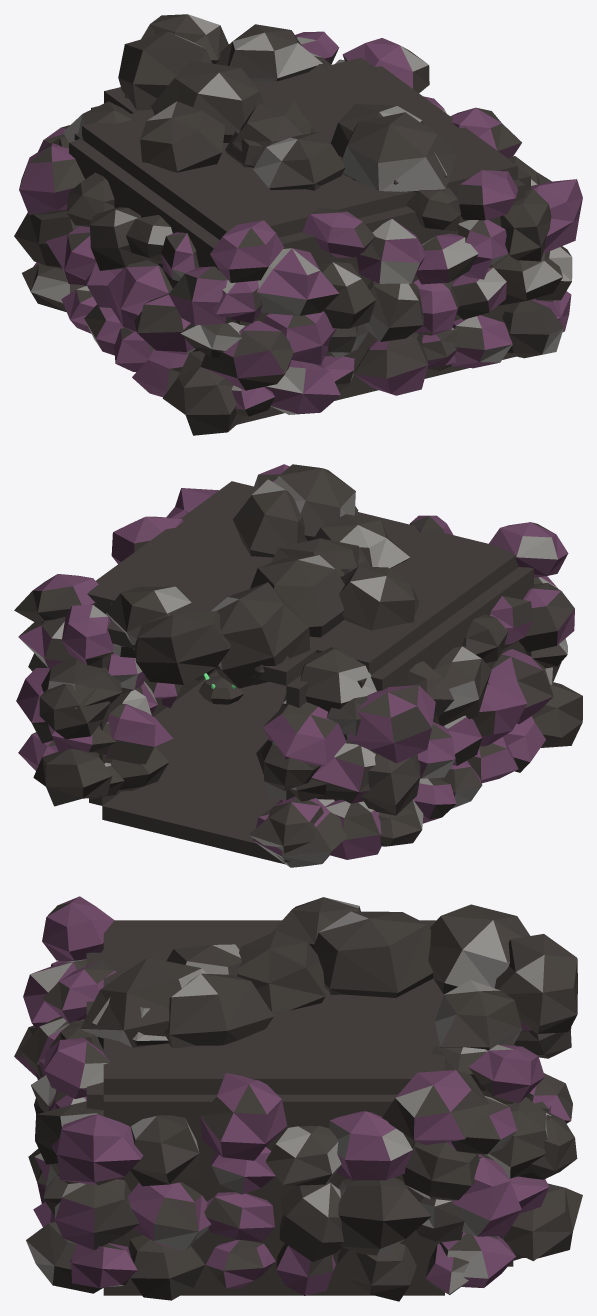
File: Cave_Crystal_Pocket.fbx
3 renders of one model, top to bottom at view 1: azimuth 30°, elevation 25°; view 2: azimuth 150°, elevation 25°; view 3: azimuth 270°, elevation 25°, orthographic. The views are drawn at different scales.
Parts seen in each view (by area): view 1: Decor, Ceiling2, Wall6, Wall3, Floor2; view 2: Decor, Ceiling2, Floor2, Floor1, Wall6, Ceiling1, Wall5, Wall7; view 3: Decor, Ceiling2, Wall4, Floor2, Wall3.
Part boxes in pixels (bbox=[...]): Decor: bbox=[14, 14, 582, 435]; Ceiling2: bbox=[82, 58, 517, 239]; Wall6: bbox=[69, 140, 219, 351]; Wall3: bbox=[235, 179, 525, 412]; Floor2: bbox=[237, 354, 515, 424]; Decor: bbox=[14, 464, 582, 867]; Ceiling2: bbox=[87, 481, 518, 674]; Floor2: bbox=[144, 671, 286, 814]; Floor1: bbox=[102, 786, 285, 864]; Wall6: bbox=[371, 567, 533, 691]; Ceiling1: bbox=[107, 620, 316, 685]; Wall5: bbox=[89, 652, 127, 805]; Wall7: bbox=[286, 675, 308, 800]; Decor: bbox=[14, 896, 582, 1301]; Ceiling2: bbox=[103, 920, 444, 1094]; Wall4: bbox=[103, 1094, 439, 1287]; Floor2: bbox=[103, 1287, 444, 1295]; Wall3: bbox=[86, 949, 103, 1110].
Bounding box in the file's own units: 32.11 × 17.94 × 33.34.
